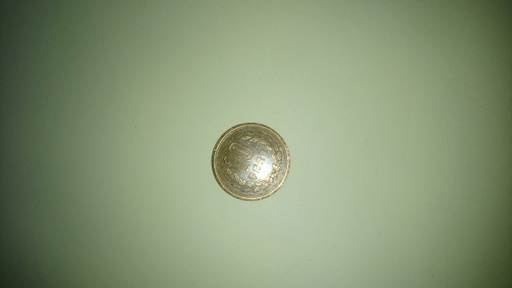10yen: (212, 124, 289, 200)
